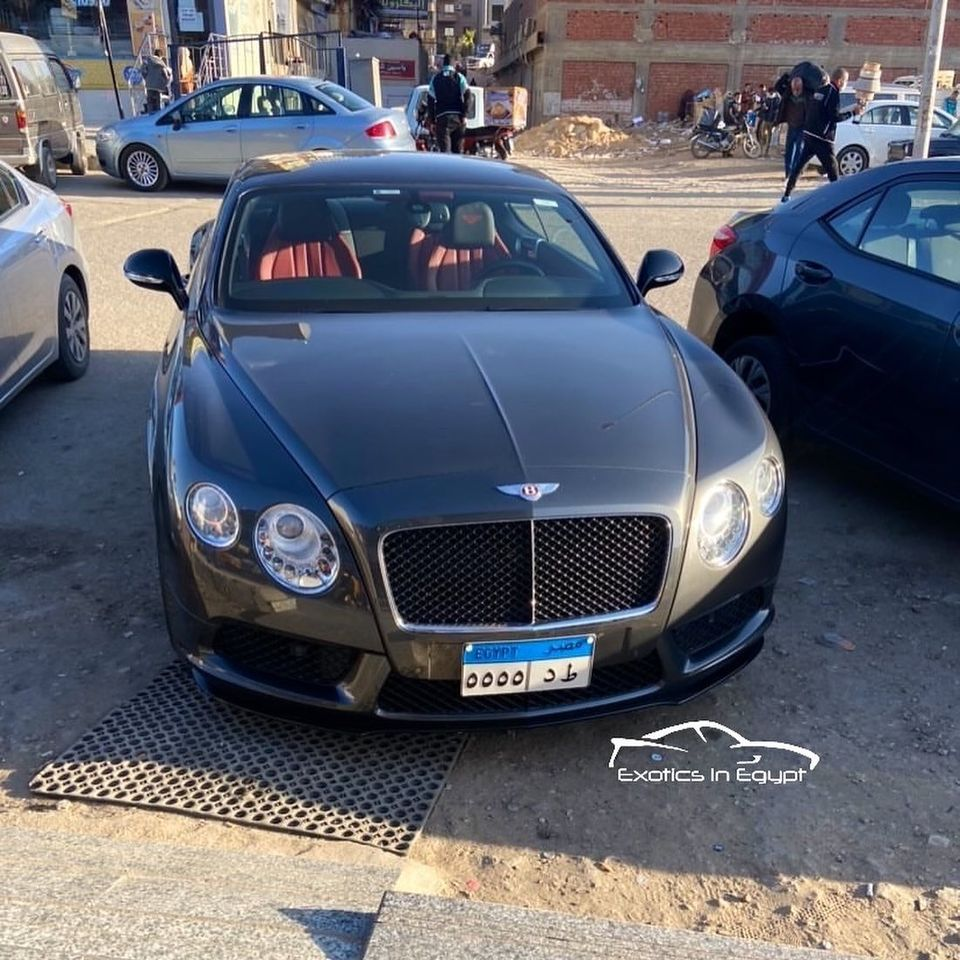carpl: (462, 639, 600, 696)
